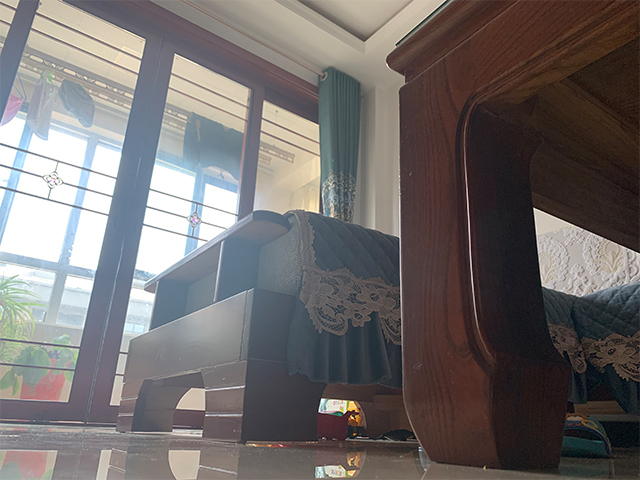slippers: (560, 410, 614, 457)
sofa: (114, 208, 640, 446)
table: (384, 1, 640, 475)
